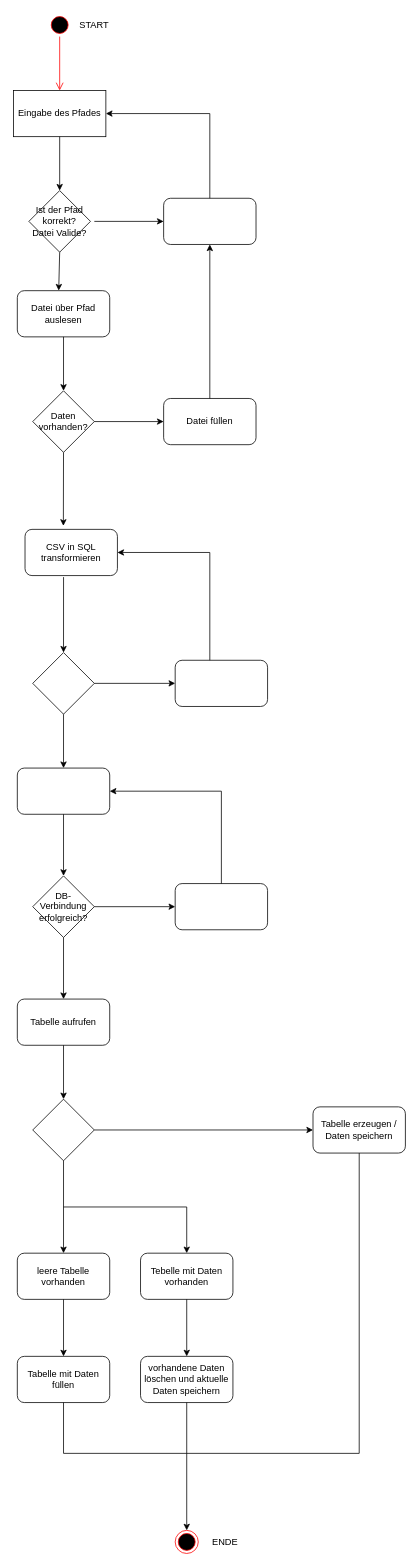
This 419x1567 diagram has some shape labels left out. The centre of each missing label's shape, as x and y in pixels:
"DB-Verbindung aufbauen" belongs at point 63,790.
"existiert eine Tabelle?" belongs at point 63,1129.
"Fehlersuche" belongs at point 221,683.
"Pfad inkorrekt / Datei nicht valide" belongs at point 209,221.
"transformation erfolgreich?" belongs at point 63,683.
"Verbindung überprüfen / Problem beheben" belongs at point 221,906.
